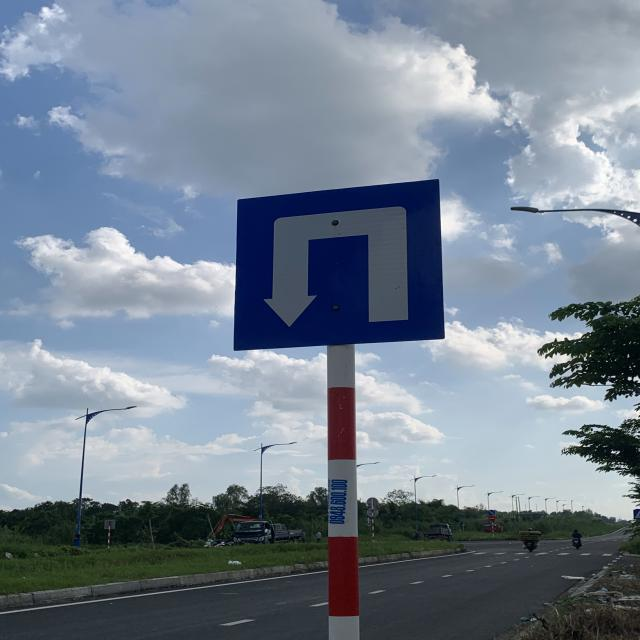Den_Giao_Thong: (236, 178, 444, 346)
